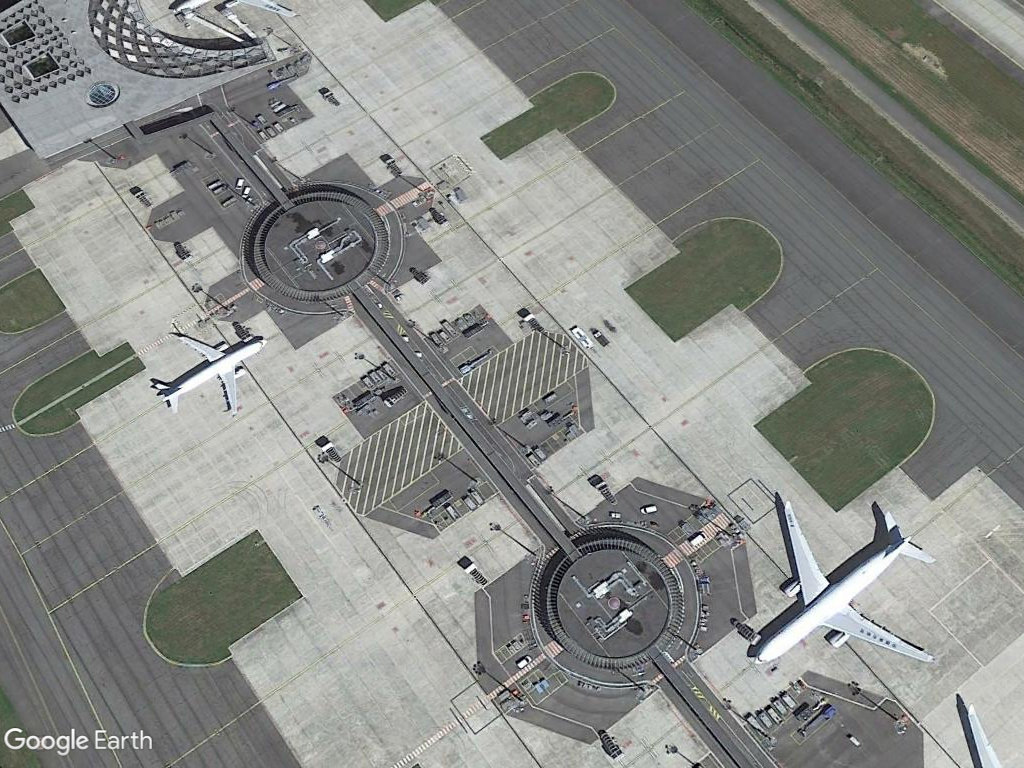airliner: (748, 495, 941, 676), (147, 329, 269, 416)
stairtruck: (460, 559, 491, 589), (591, 479, 622, 508), (379, 384, 412, 408), (317, 440, 343, 467)
van: (638, 502, 660, 516)
